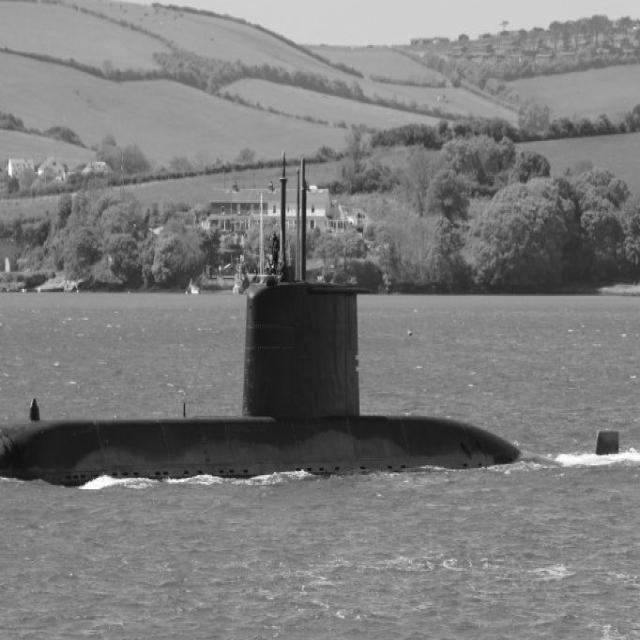submarine: (1, 136, 640, 503)
